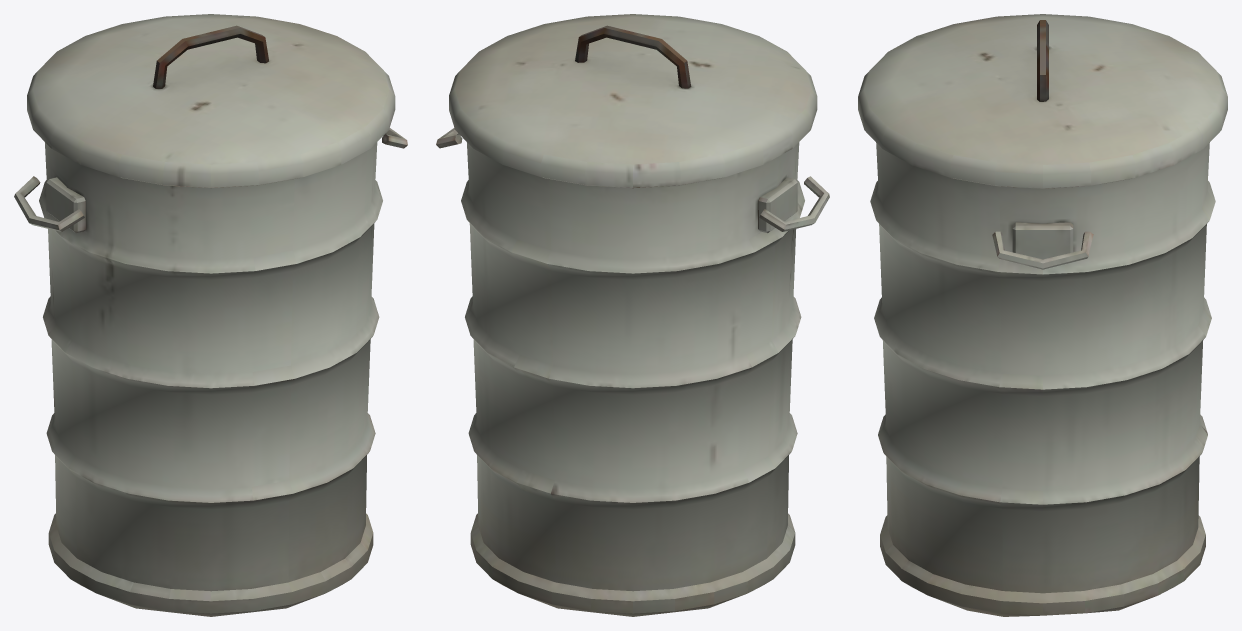
Rendered from trash_can-low.glb.
The picture shows the model from 3 angles, left to right: view 1: azimuth 30°, elevation 25°; view 2: azimuth 150°, elevation 25°; view 3: azimuth 270°, elevation 25°; orthographic projection.
Parts seen in each view (by area): view 1: trash_can; view 2: trash_can; view 3: trash_can.
Part boxes in pixels (x1,y1,x2,y2): trash_can: (14,14,407,616); trash_can: (436,14,829,616); trash_can: (858,14,1227,616).
Bounding box in the file's own units: 0.557 × 0.7597 × 0.488.
Materials: 1 (1 with a texture image).
